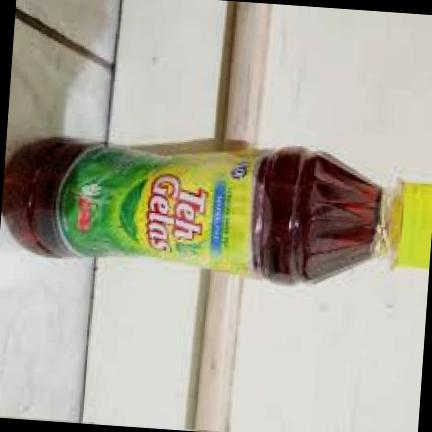container: (2, 138, 432, 282)
fluid: (2, 138, 382, 282)
fluid-surface: (370, 186, 388, 259)
